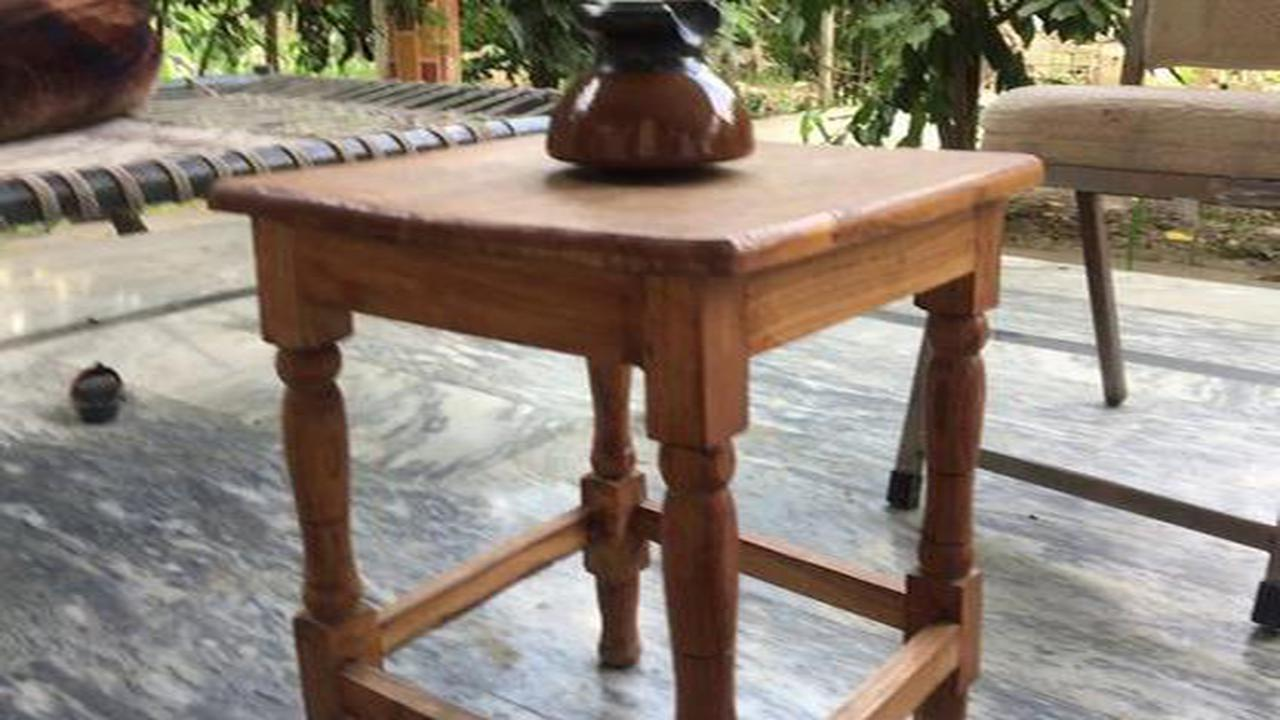insulator_pin: (539, 1, 770, 189)
